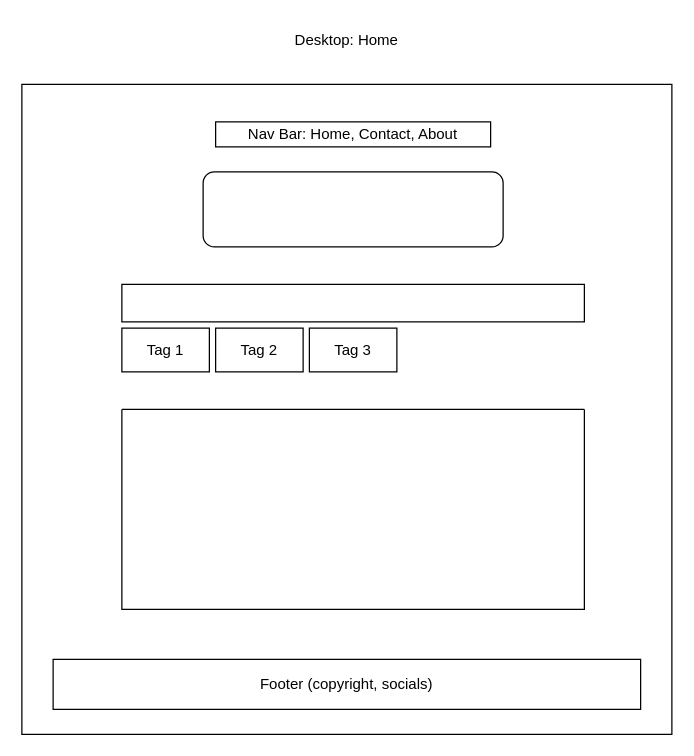
Image size: 694x756. Some labels were removed from this diagram. The shapes that lost their labels are listed below. From the top down, each one's centre as x and y in pixels, then its label:
the point at 352,209: Brief (about) text, and a slogan that states benefit of hiring me.
the point at 352,302: Search for Project
the point at 352,508: Projects display upons earching via text or tags
